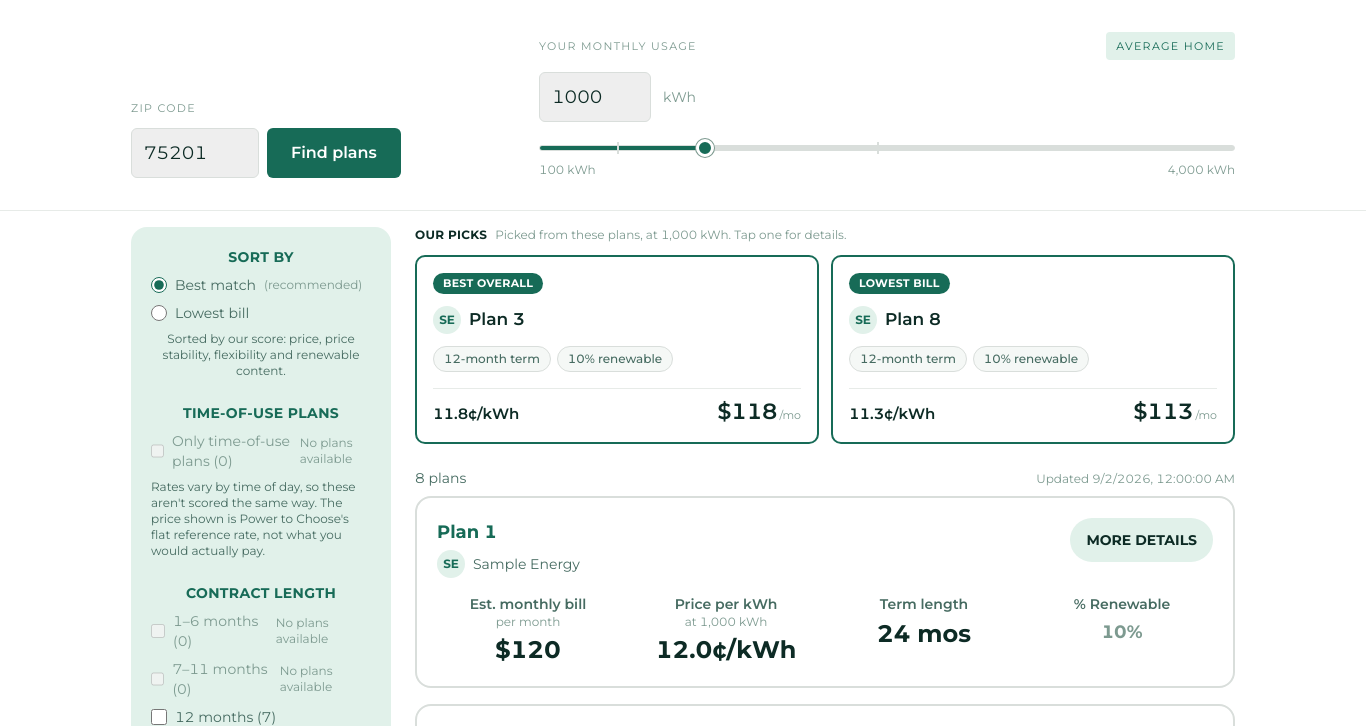
Test case: OurPicks in the page › follows the usage in its header
This screenshot has width=1366, height=726.
Check: the text "Picked from these plans, at 1,000 kWh. Tap one for details." is shown, box x1=495 y1=227 x2=847 y2=243
Replace the text in the number field named "monthly usage in kWh" with "2334" at [595, 97], box x1=539 y1=72 x2=651 y2=122
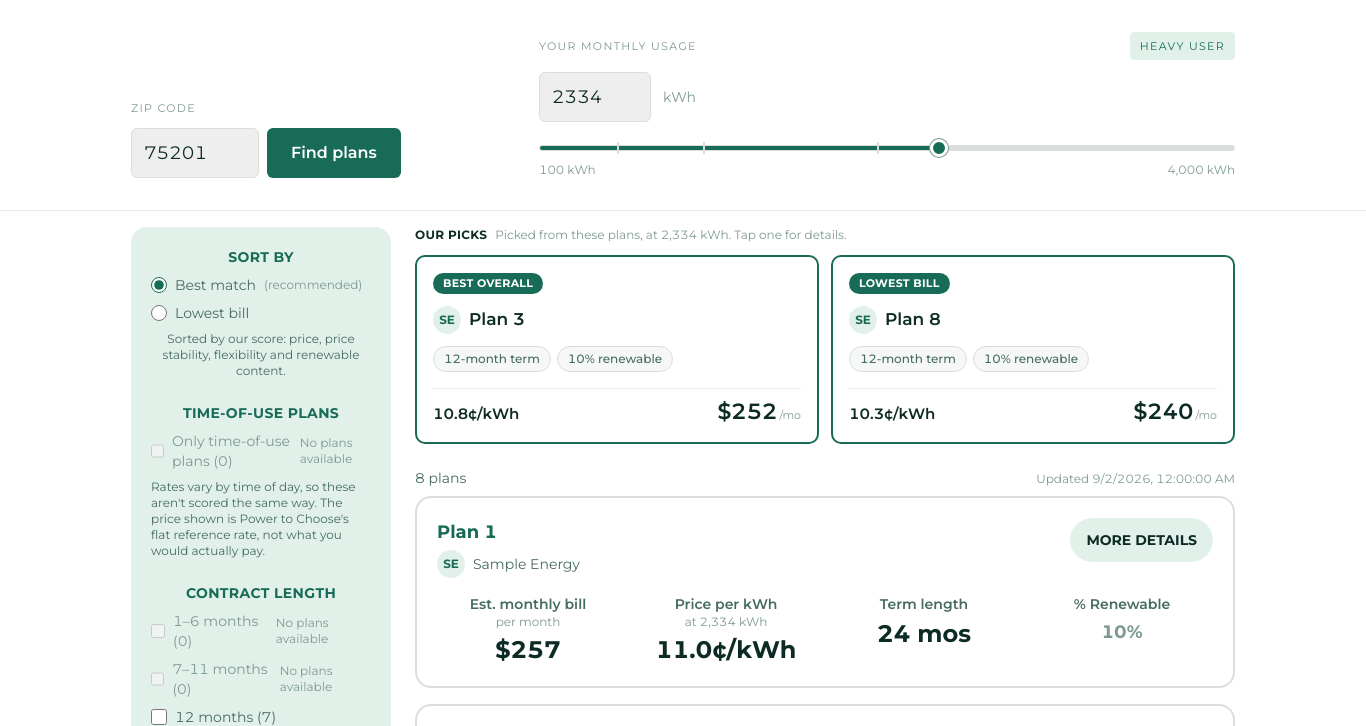
Check: the text "Picked from these plans, at 2,334 kWh. Tap one for details." is shown, box x1=495 y1=227 x2=847 y2=243
